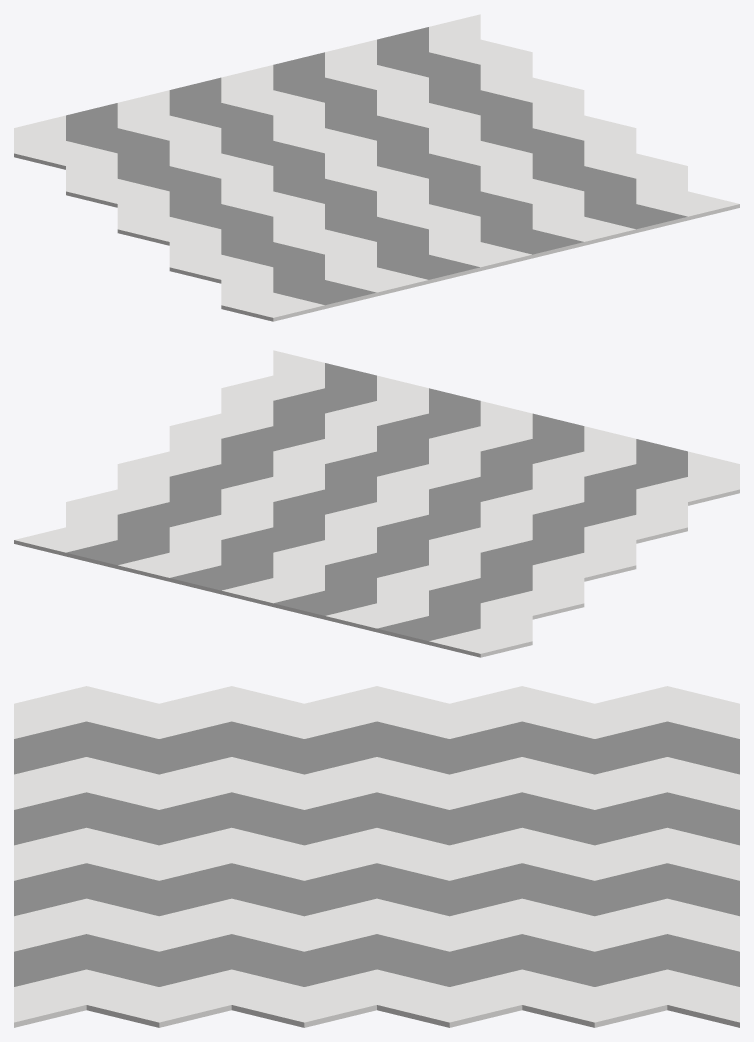
The model's file is Carpet_1_231109.glb.
3 renders of one model, top to bottom at view 1: azimuth 30°, elevation 25°; view 2: azimuth 150°, elevation 25°; view 3: azimuth 270°, elevation 25°, orthographic. The views are drawn at different scales.
Visible parts, largest first — view 1: Carpet_1; view 2: Carpet_1; view 3: Carpet_1.
Boxes of the visible parts, x1,y1,x2,y2 form: Carpet_1: [14, 14, 739, 321]; Carpet_1: [14, 350, 739, 657]; Carpet_1: [14, 686, 739, 1027].
Size of the model in its own units: 3.49 by 0.0259 by 3.18.
Materials: 1 (1 with a texture image).
